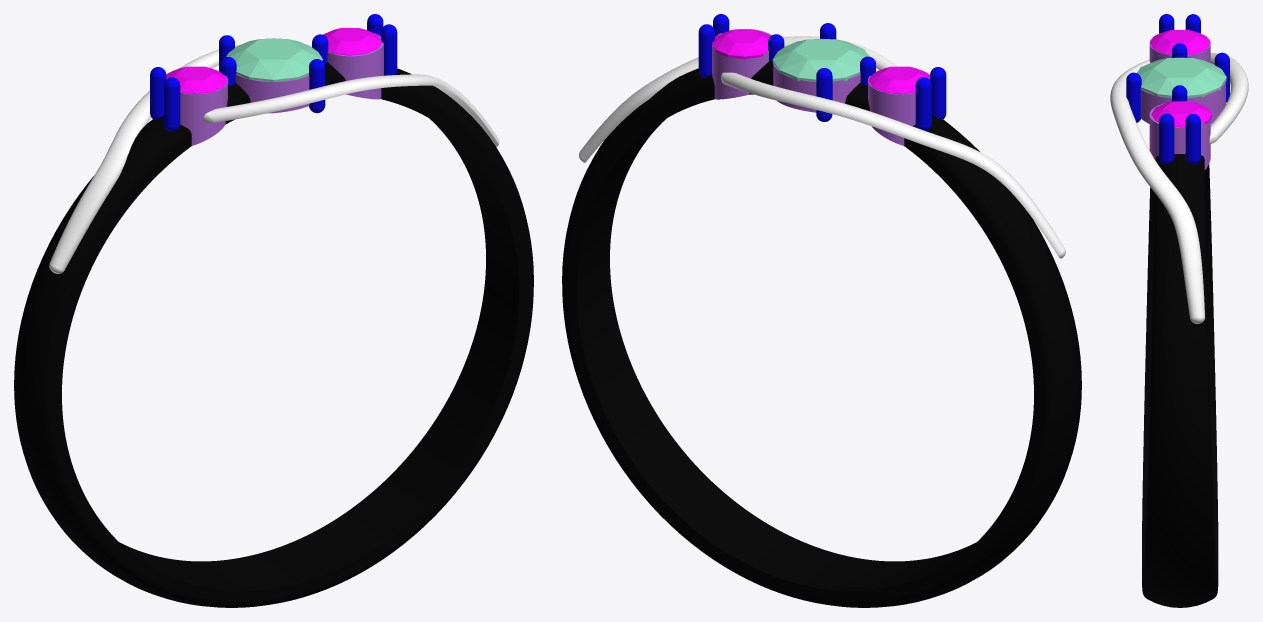
3 renders of one model, left to right at view 1: azimuth 30°, elevation 25°; view 2: azimuth 150°, elevation 25°; view 3: azimuth 270°, elevation 25°, orthographic. The views are drawn at different scales.
Parts seen in each view (by area): view 1: anel formatura rec 2 RENDER.3dm; view 2: anel formatura rec 2 RENDER.3dm; view 3: anel formatura rec 2 RENDER.3dm.
Boxes of the visible parts, box(x1,y1,x2,y2) form: anel formatura rec 2 RENDER.3dm: box(14, 14, 533, 607); anel formatura rec 2 RENDER.3dm: box(562, 14, 1081, 607); anel formatura rec 2 RENDER.3dm: box(1110, 14, 1248, 607).
Bounding box in the file's own units: 2.74 × 2.84 × 0.6877.
